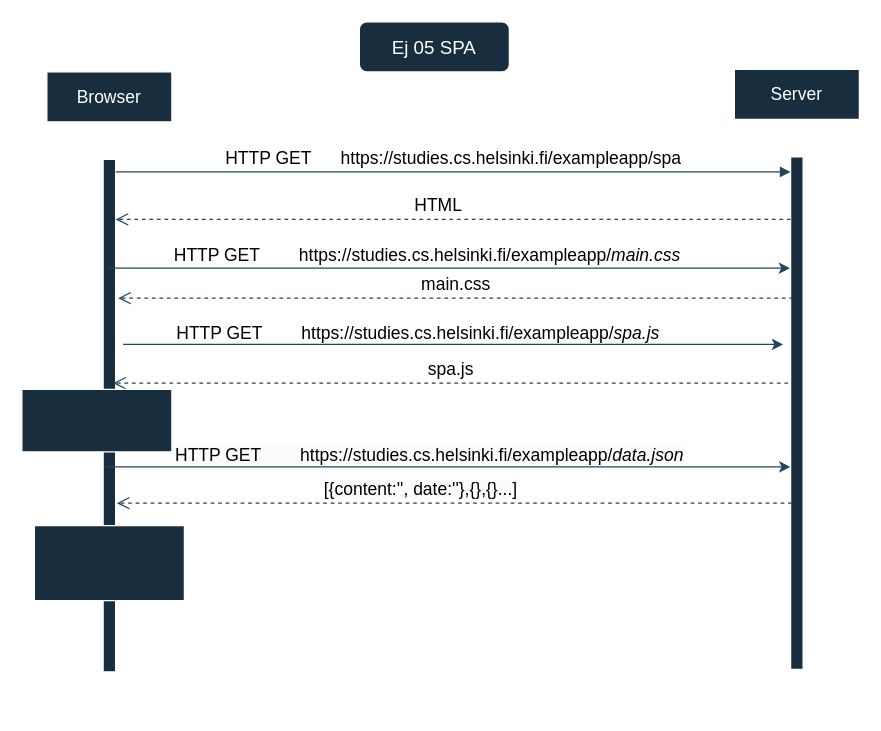
The diagram is 881 pixels wide and 731 high, and some of its shapes have lost their labels. The centre of each missing label's shape, as x and y in pixels:
"Se ejecuta el eventHandler que muestra las notas" belongs at point 108,562.
"Se solicita data.json" belongs at point 96,420.
